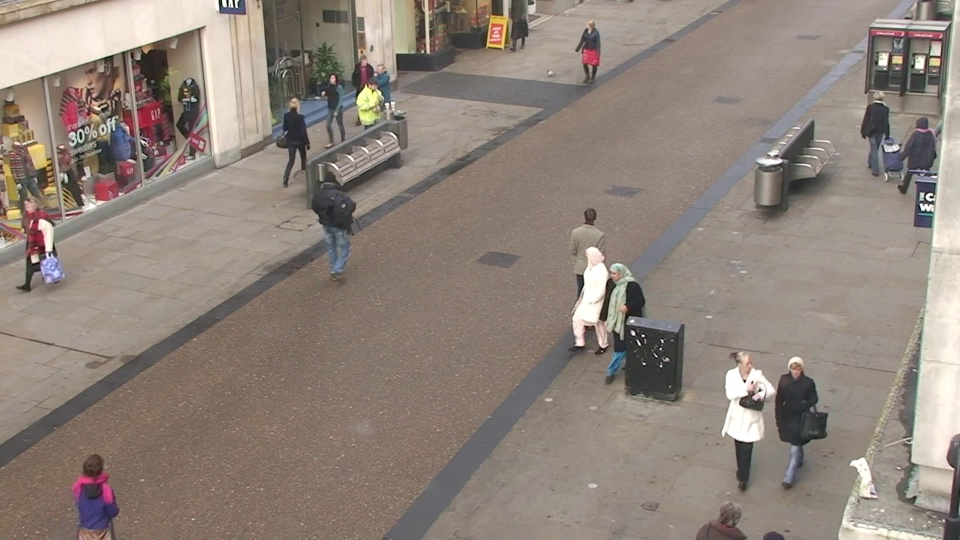pedestrian: (764, 346, 821, 503), (714, 342, 769, 498), (64, 440, 140, 540), (11, 191, 67, 305), (596, 256, 639, 390), (572, 240, 613, 369), (573, 203, 611, 323), (894, 112, 939, 211), (310, 170, 350, 280), (694, 482, 759, 540), (856, 88, 896, 180), (280, 94, 314, 182), (359, 73, 389, 156), (323, 68, 353, 150), (369, 60, 398, 139), (351, 52, 380, 129), (579, 17, 602, 86)
